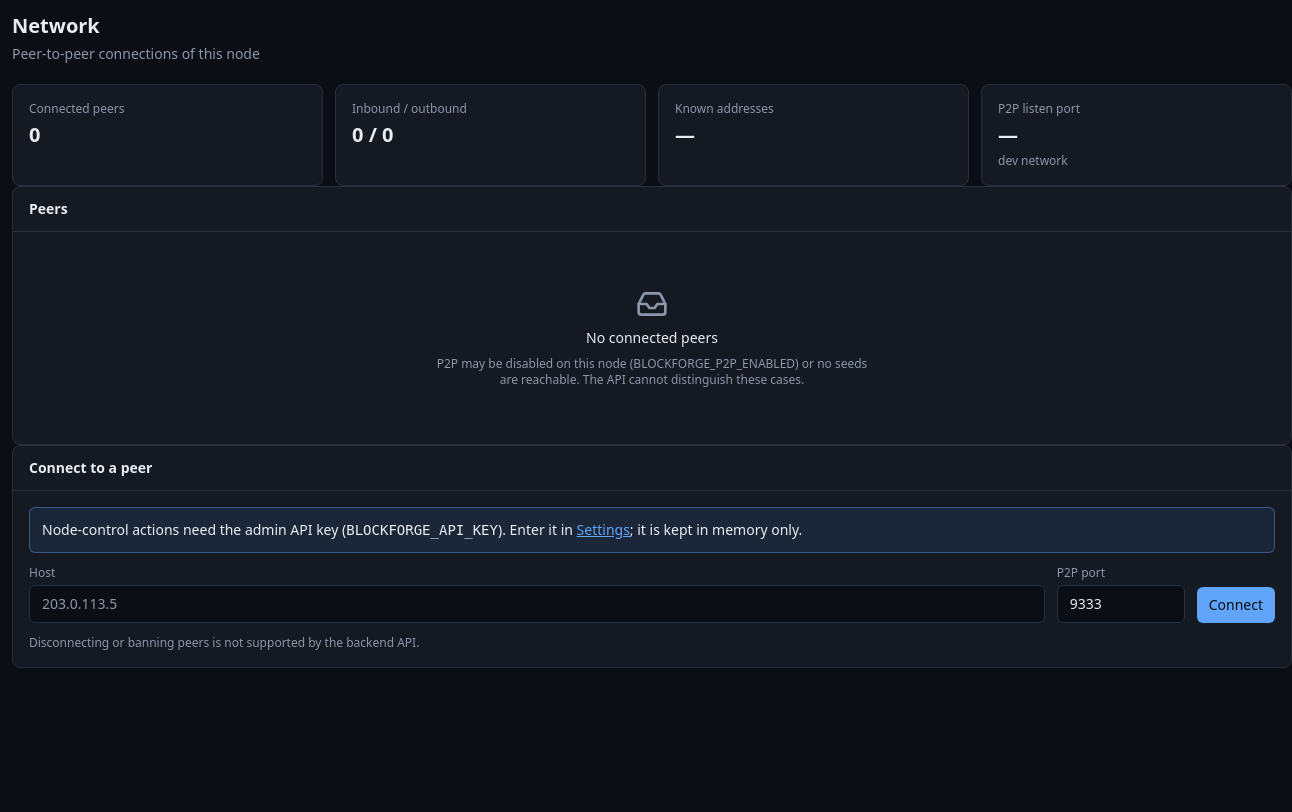
it: Network › explains an empty peer list and validates the connect form
Expected: the text "No connected peers" is shown, [586, 328, 718, 348]
In the field labelled "Host": (537, 604) [29, 585, 1045, 623], type "bad host!"
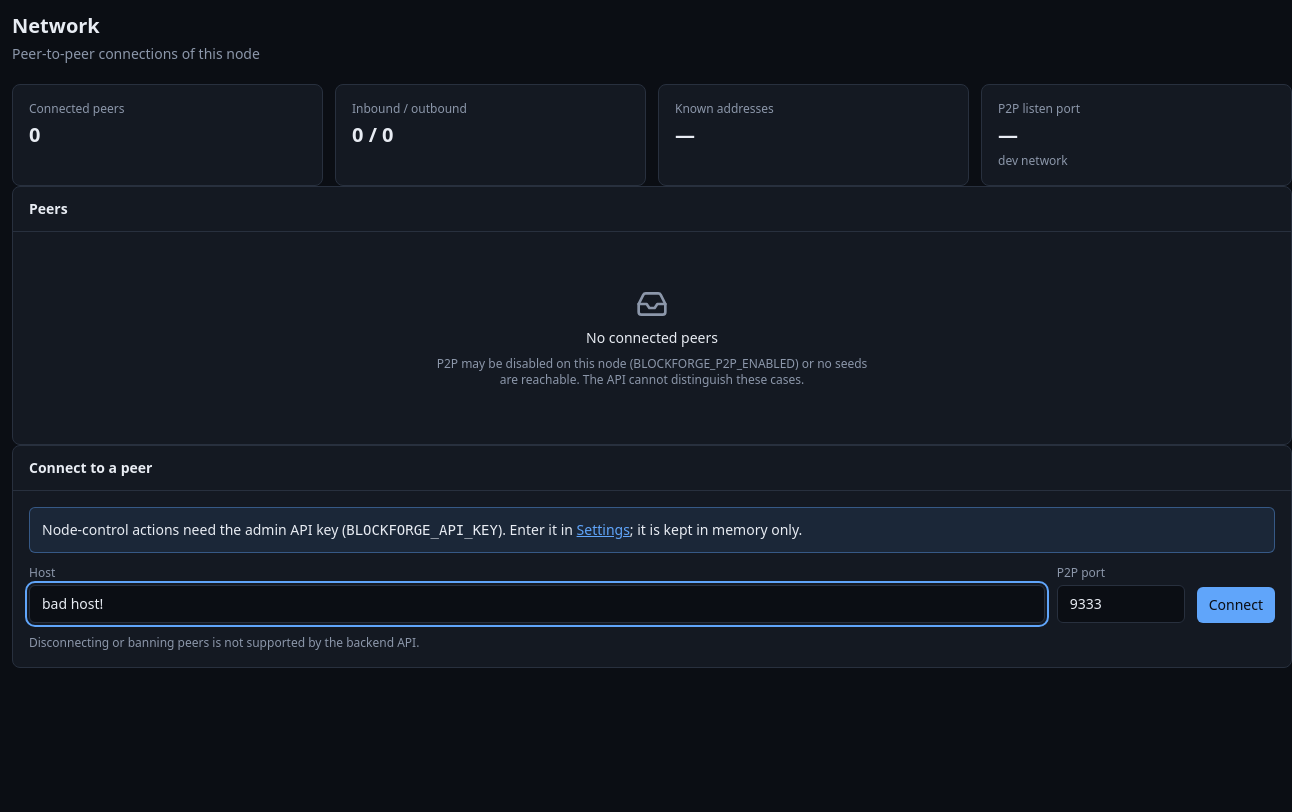
Click the button "Connect": (1236, 605) [1197, 587, 1275, 623]
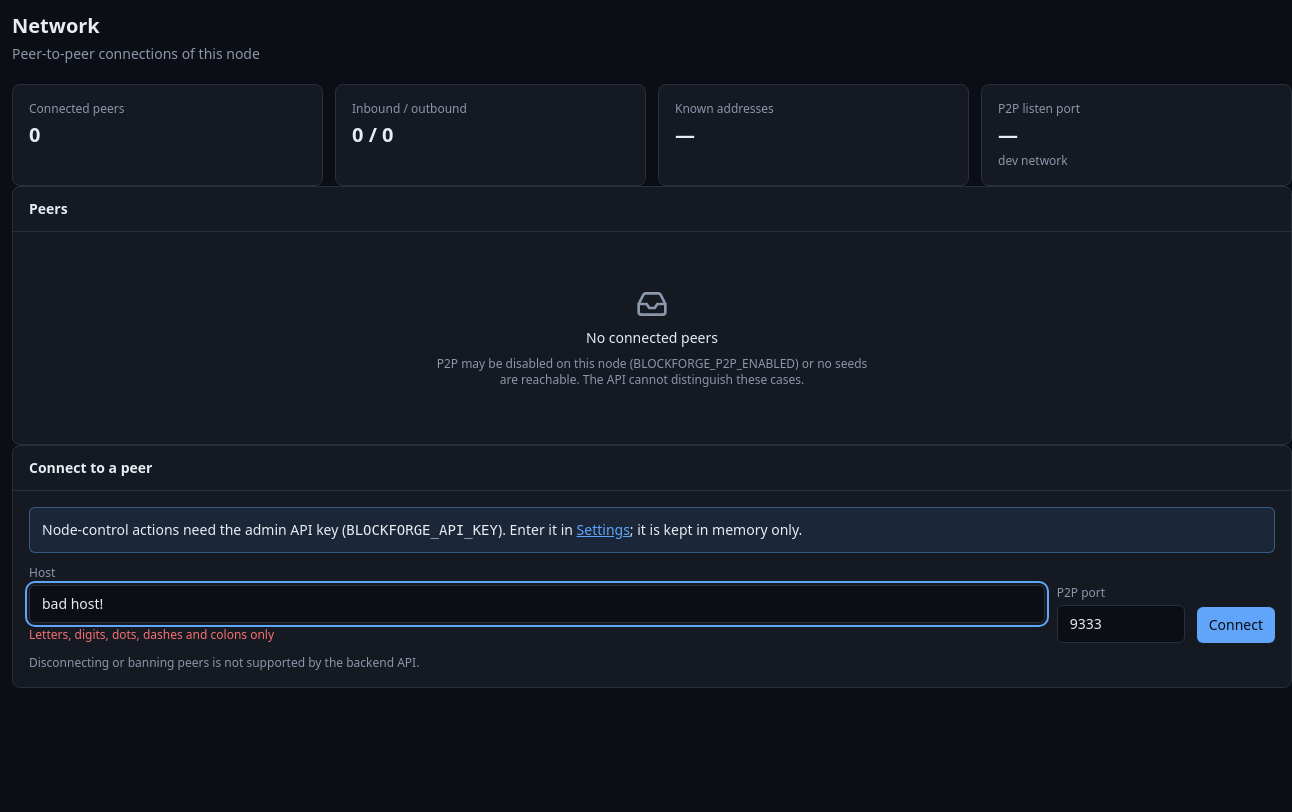
Now the text "Letters, digits, dots, dashes and colons only" is shown, box [29, 626, 274, 643]
